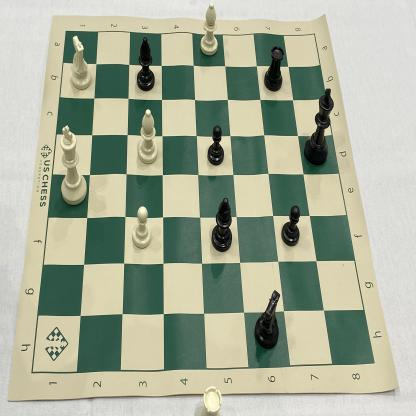black-bishop: (209, 194, 237, 256), (134, 34, 159, 93)
black-king: (302, 85, 339, 168)
black-knight: (252, 287, 284, 352)
black-pawn: (280, 200, 302, 250), (205, 122, 227, 168)
black-rook: (262, 44, 288, 98)
white-bishop: (134, 104, 161, 168), (196, 1, 221, 61)
white-king: (56, 121, 90, 208)
white-knight: (67, 30, 96, 95)
white-pawn: (130, 205, 154, 254)
